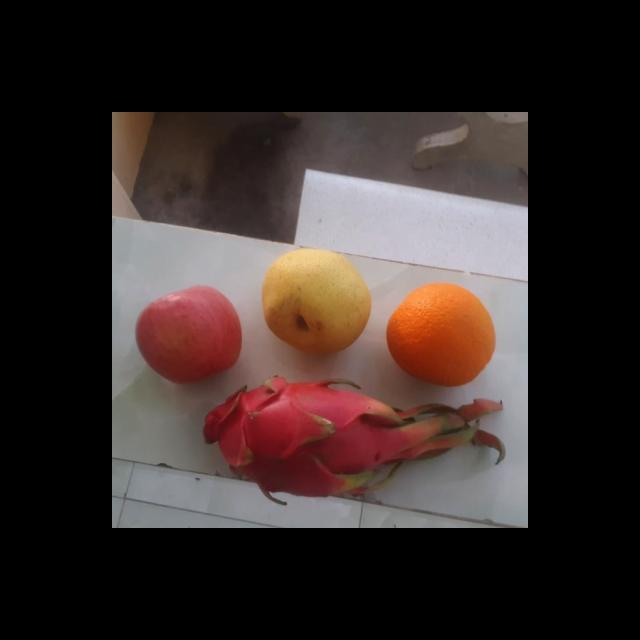apple: (132, 285, 242, 380)
orange: (382, 281, 498, 384)
pear: (256, 245, 376, 351)
pitaya: (207, 367, 391, 497)
